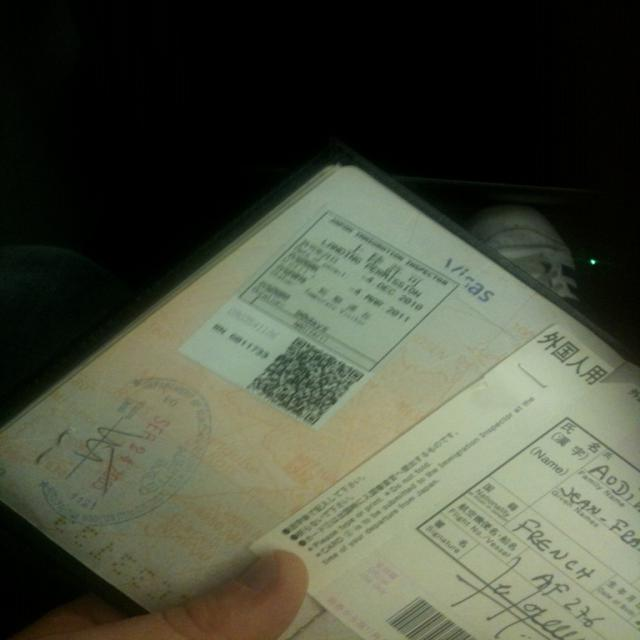qrcode: (246, 338, 365, 426)
